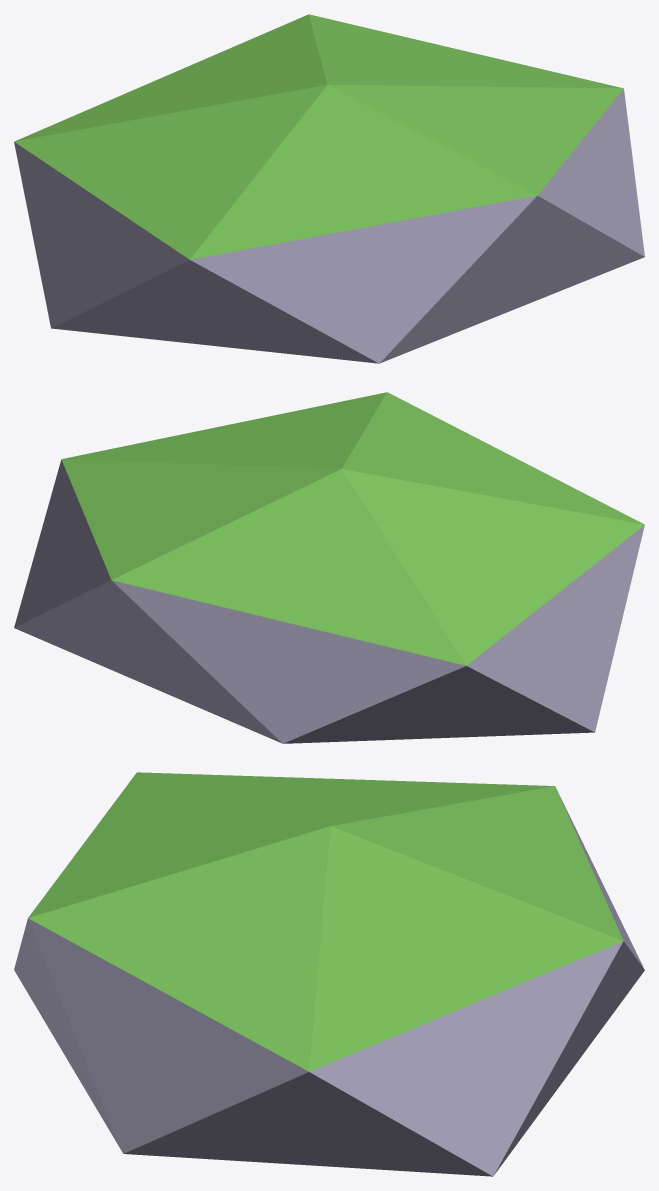
Rendered from water_rock.glb.
3 views of the same model, one above another, from view 1: azimuth 30°, elevation 25°; view 2: azimuth 150°, elevation 25°; view 3: azimuth 270°, elevation 25° (orthographic). The views are drawn at different scales.
Parts seen in each view (by area): view 1: water_rock; view 2: water_rock; view 3: water_rock.
Boxes of the visible parts, x1=… form: water_rock: x1=14, y1=14, x2=644, y2=363; water_rock: x1=14, y1=392, x2=644, y2=743; water_rock: x1=14, y1=772, x2=644, y2=1176.
Bounding box in the file's own units: 1.03 × 0.4513 × 0.8619.
